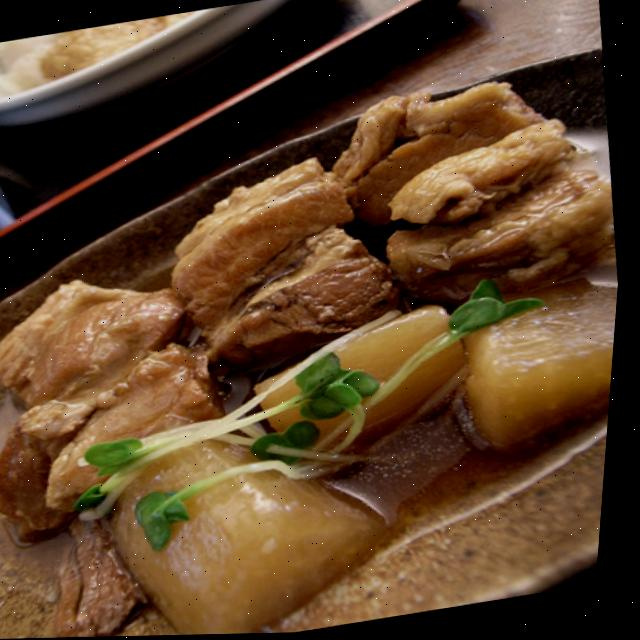汤锅炖物: (0, 58, 636, 640)
